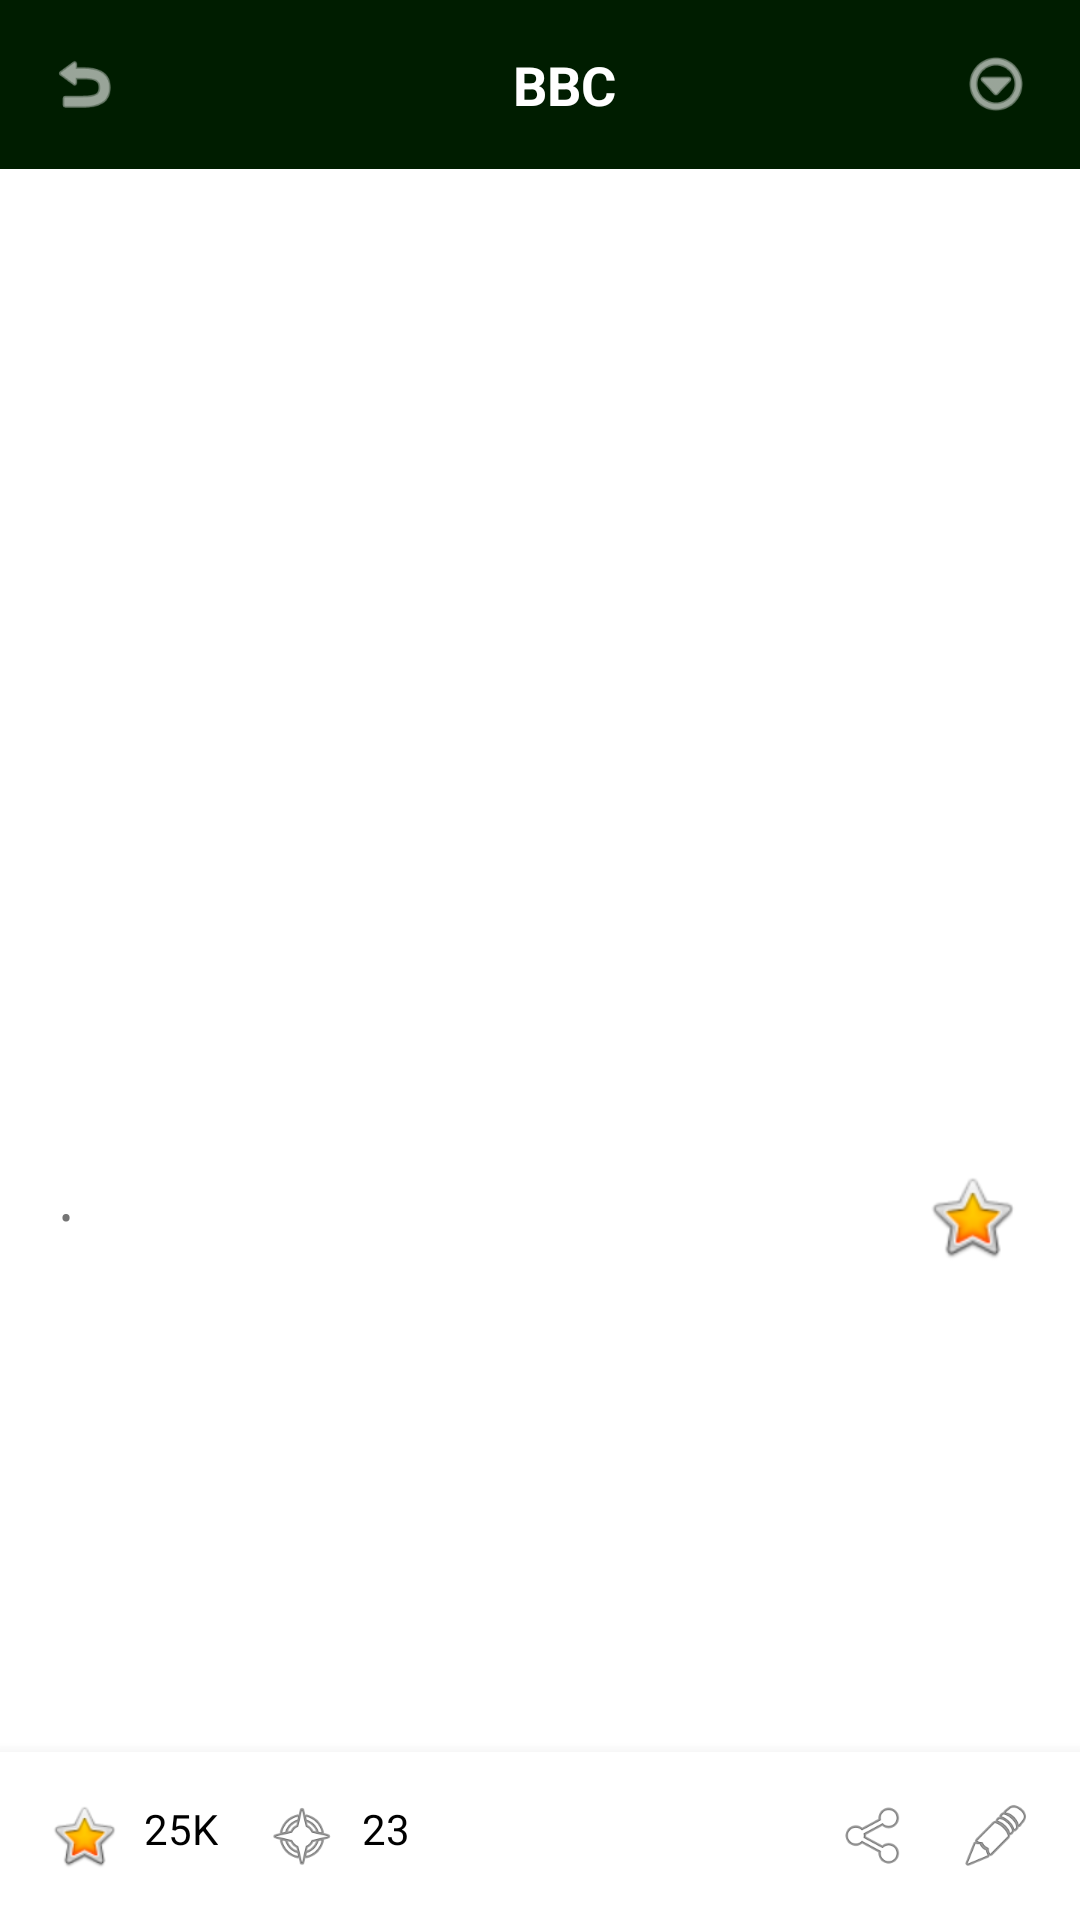

Icon click points for this 1080w x 1920h phone screenshot, format point (x, y):
Back: point (85, 84)
Like: point (85, 1836)
Menu: point (996, 84)
Share: point (872, 1835)
